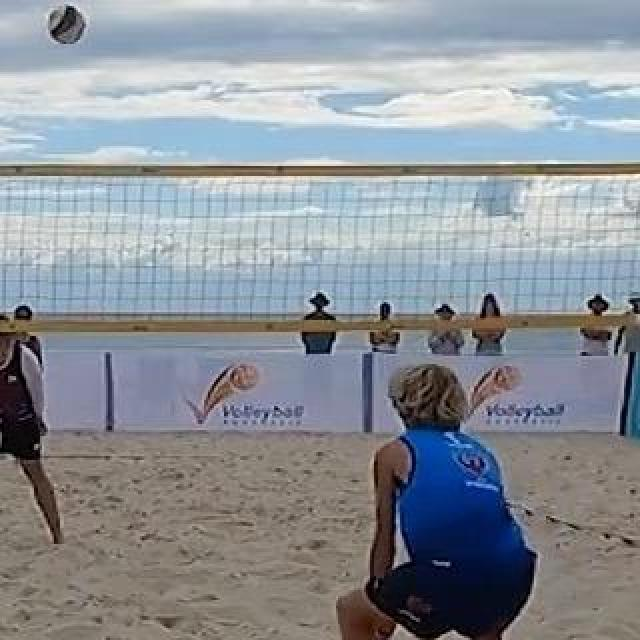volleyball: (47, 6, 87, 44), (588, 295, 608, 315)
